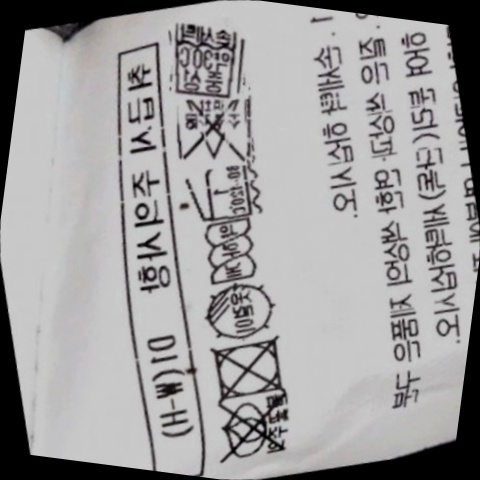DN_tumble_dry: (199, 324, 301, 411)
hand_wash: (158, 15, 255, 106)
iron_low: (181, 154, 265, 232)
line_dry_in_shade: (192, 272, 287, 350)
wring: (195, 211, 268, 293)
